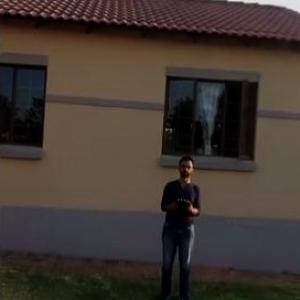follow: (153, 142, 205, 299)
